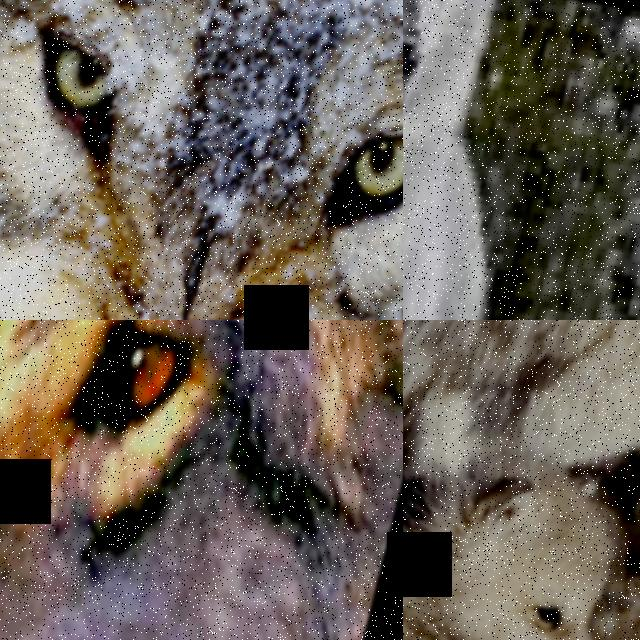wolf: (0, 0, 403, 320), (0, 320, 403, 640), (403, 0, 609, 320), (403, 320, 640, 597)
